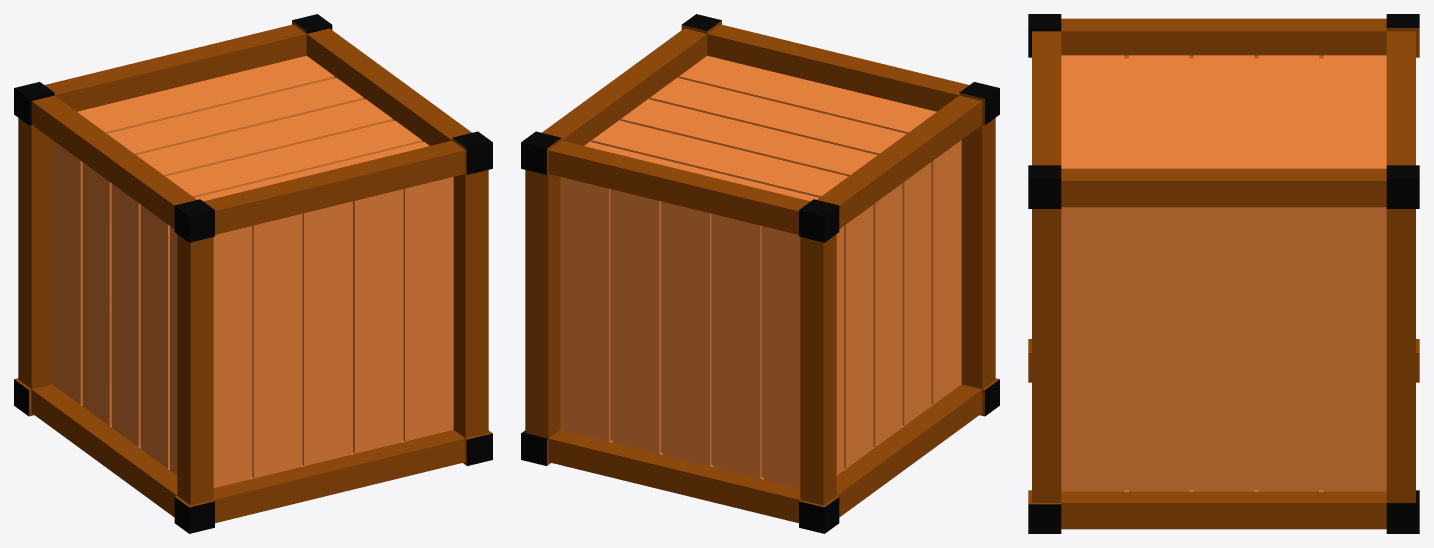
The model's file is Crate.fbx.
3 renders of one model, left to right at view 1: azimuth 30°, elevation 25°; view 2: azimuth 150°, elevation 25°; view 3: azimuth 270°, elevation 25°, orthographic. The views are drawn at different scales.
Visible parts, largest first — view 1: Crate.001, Crate; view 2: Crate.001, Crate; view 3: Crate.001, Crate.
Boxes of the visible parts, bbox=[...] form: Crate.001: bbox=[52, 55, 453, 487]; Crate: bbox=[14, 14, 492, 533]; Crate.001: bbox=[560, 55, 961, 487]; Crate: bbox=[521, 14, 999, 533]; Crate.001: bbox=[1061, 55, 1386, 491]; Crate: bbox=[1028, 14, 1419, 533].
Size of the model in its own units: 341 by 341 by 341.
